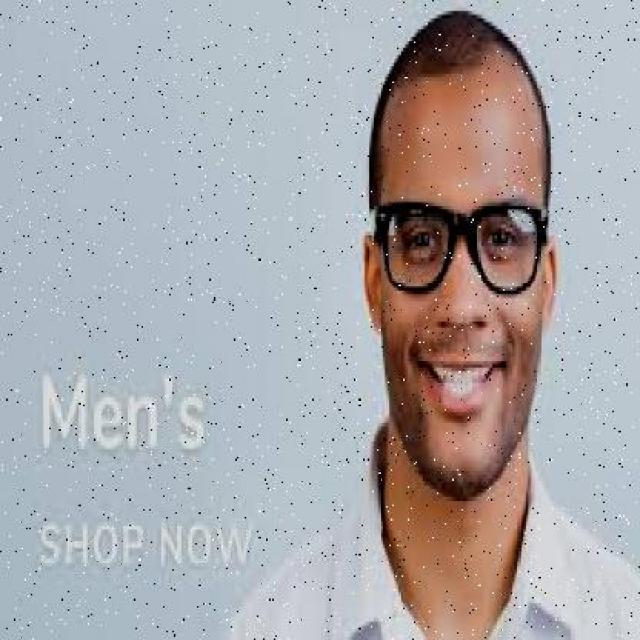mask: (369, 184, 546, 306)
